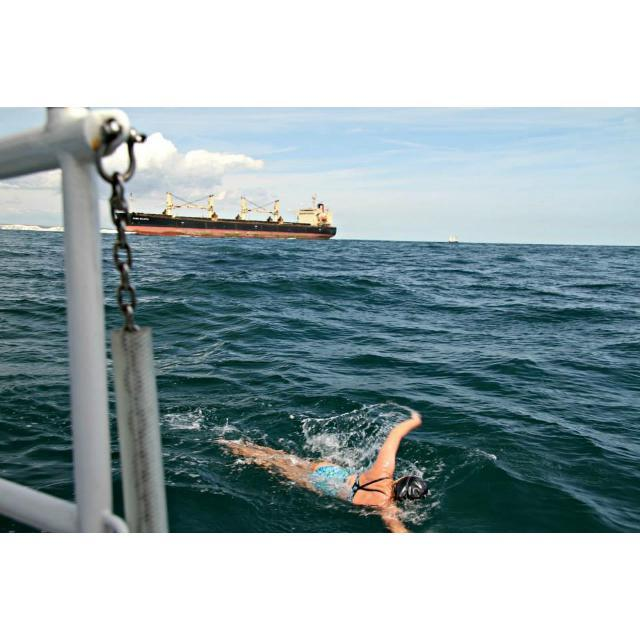human: (213, 405, 445, 532)
